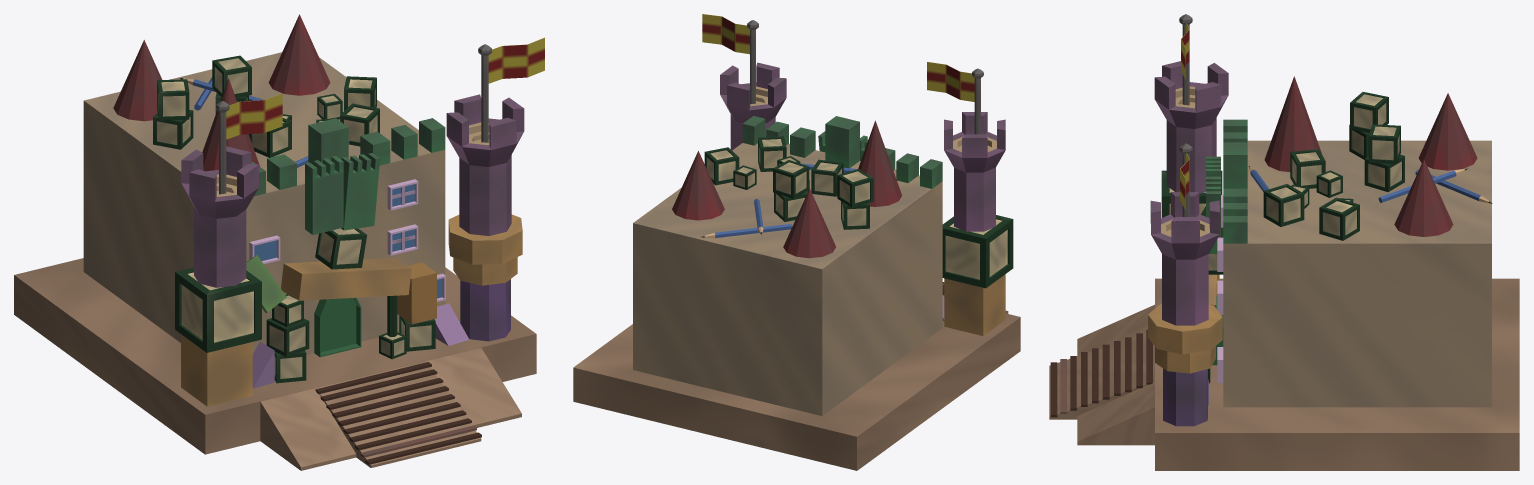
The model's file is Castle_yellow.glb.
3 renders of one model, left to right at view 1: azimuth 30°, elevation 25°; view 2: azimuth 150°, elevation 25°; view 3: azimuth 270°, elevation 25°, orthographic. The views are drawn at different scales.
Visible parts, largest first — view 1: Mesh_0.002; view 2: Mesh_0.002; view 3: Mesh_0.002.
Boxes of the visible parts, bbox=[...] form: Mesh_0.002: bbox=[14, 14, 544, 470]; Mesh_0.002: bbox=[573, 14, 1020, 470]; Mesh_0.002: bbox=[1049, 14, 1519, 470].
Size of the model in its own units: 156 by 140 by 187.
1 material, 1 textured.
